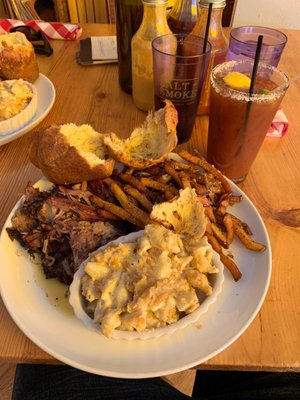pizza: (207, 60, 291, 184)
